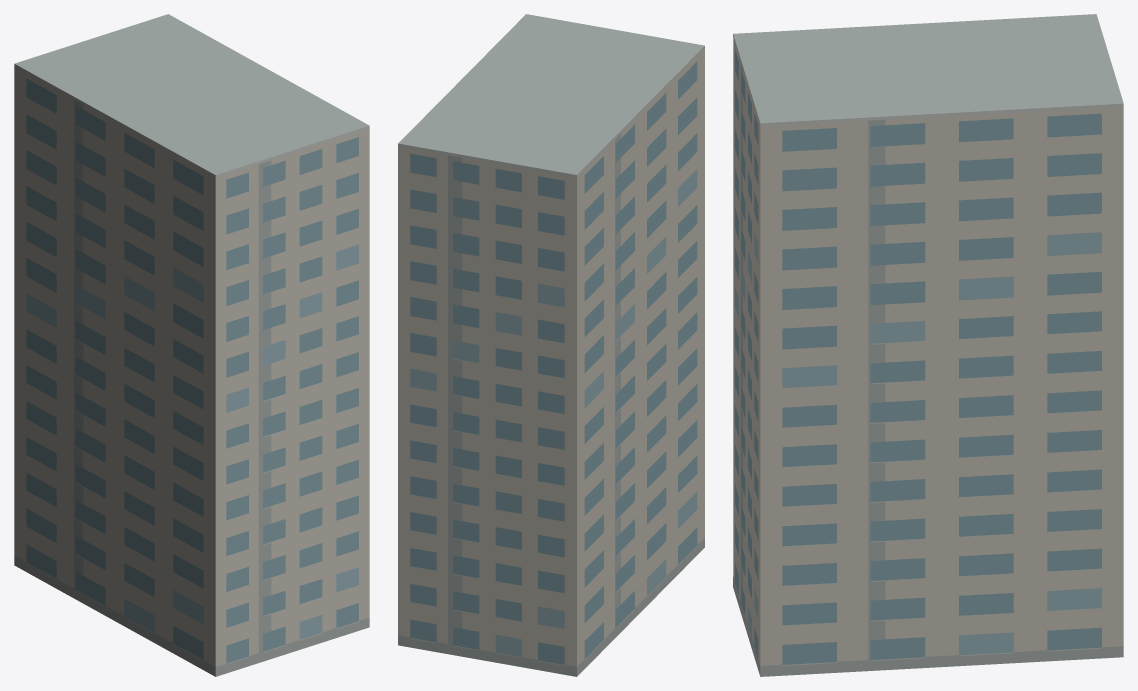
File: residential-45bb0b00-bbe2-4693-83a6-247ae03449ac.glb
3 renders of one model, left to right at view 1: azimuth 30°, elevation 25°; view 2: azimuth 150°, elevation 25°; view 3: azimuth 270°, elevation 25°, orthographic. The views are drawn at different scales.
Visible parts, largest first — view 1: residential-45bb0b00-bbe2-4693-83a6-247ae03449ac.tmp; view 2: residential-45bb0b00-bbe2-4693-83a6-247ae03449ac.tmp; view 3: residential-45bb0b00-bbe2-4693-83a6-247ae03449ac.tmp.
Part boxes in pixels (bbox=[...]): residential-45bb0b00-bbe2-4693-83a6-247ae03449ac.tmp: bbox=[14, 14, 369, 676]; residential-45bb0b00-bbe2-4693-83a6-247ae03449ac.tmp: bbox=[398, 14, 704, 676]; residential-45bb0b00-bbe2-4693-83a6-247ae03449ac.tmp: bbox=[733, 14, 1123, 676].
Size of the model in its own units: 18.09 by 42.7 by 27.32.
